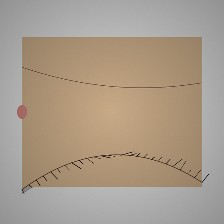pinguecula_lesion: (146, 88, 185, 120)
